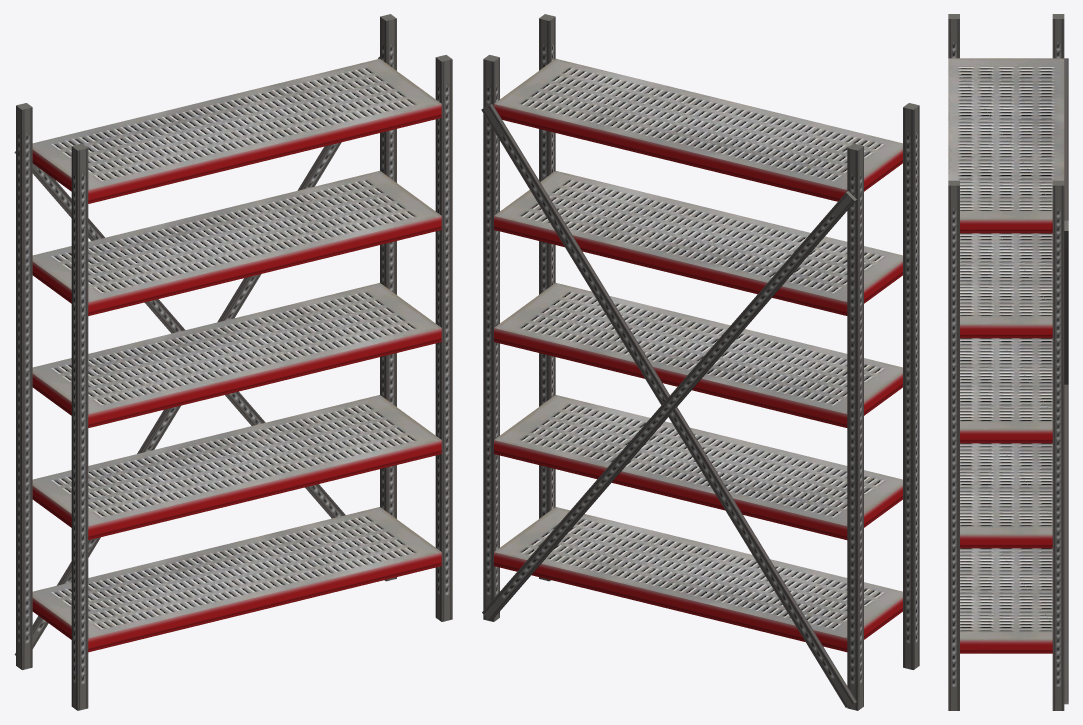
File: metalshelves.fbx
The picture shows the model from 3 angles, left to right: view 1: azimuth 30°, elevation 25°; view 2: azimuth 150°, elevation 25°; view 3: azimuth 270°, elevation 25°; orthographic projection. The views are drawn at different scales.
Visible parts, largest first — view 1: mesh_0; view 2: mesh_0; view 3: mesh_0.
Boxes of the visible parts, x1,y1,x2,y2 form: mesh_0: (14, 14, 452, 710); mesh_0: (481, 14, 919, 710); mesh_0: (948, 14, 1068, 710).
Size of the model in its own units: 140 by 200 by 41.56.
Materials: 1 (1 with a texture image).
